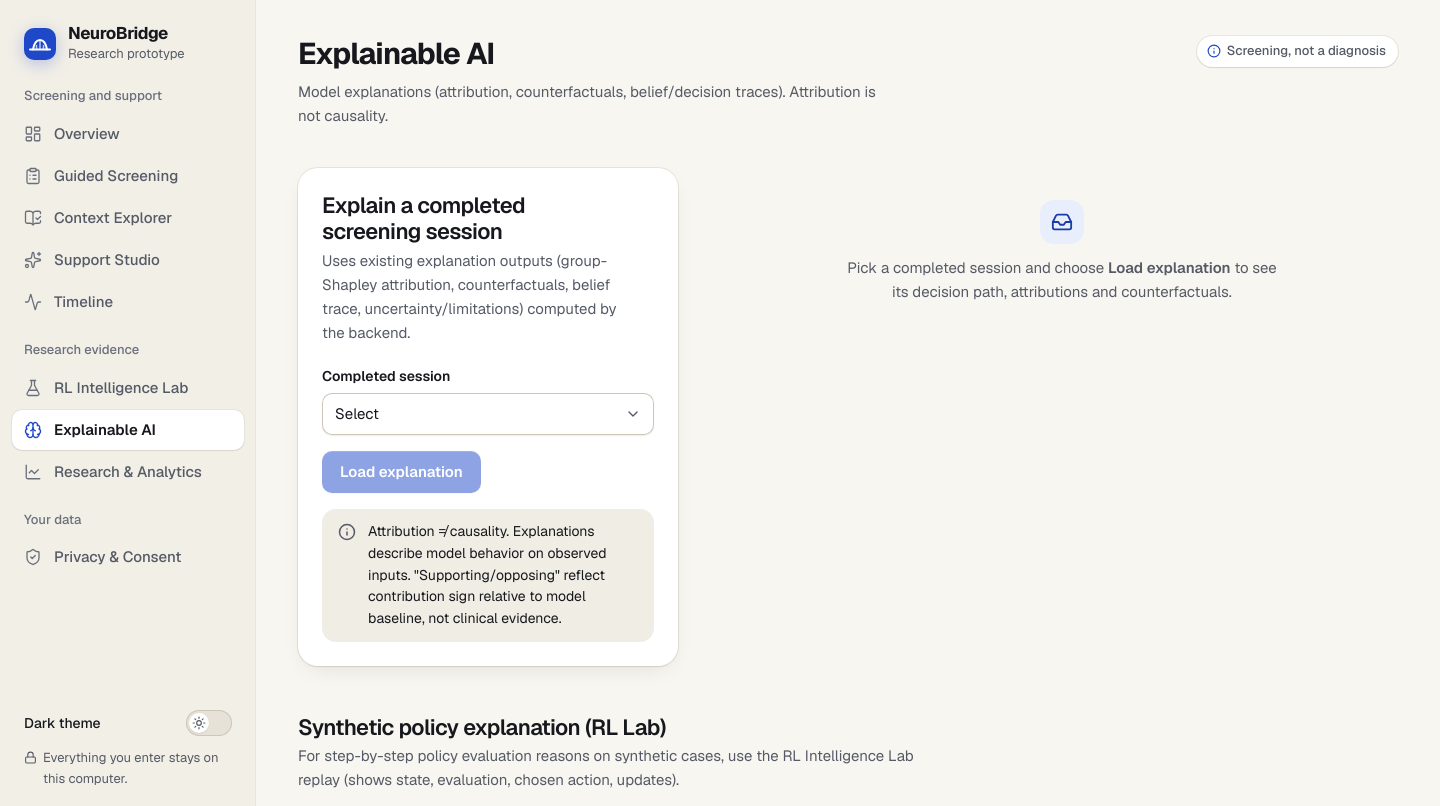
it: Explainable AI › loads the explanation of a completed session
expect the button "Load explanation" is disabled: met, box [322, 451, 481, 493]
Select "Session · greedy · ses_a" in the dropdown labelled "Completed session" at (488, 414), box [322, 393, 654, 435]
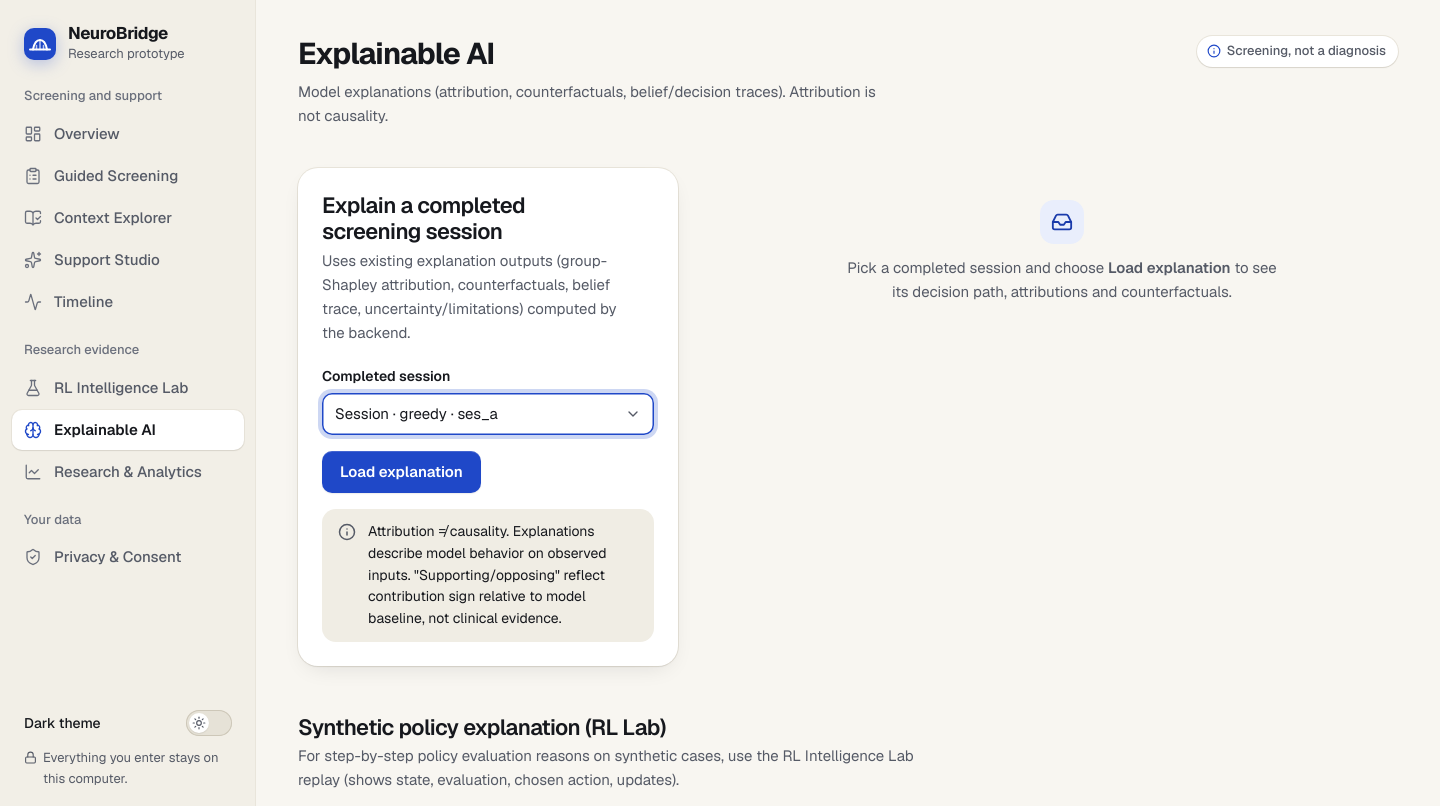
Click the button "Load explanation".
click(401, 472)  # box [322, 451, 481, 493]
(page scrolled)
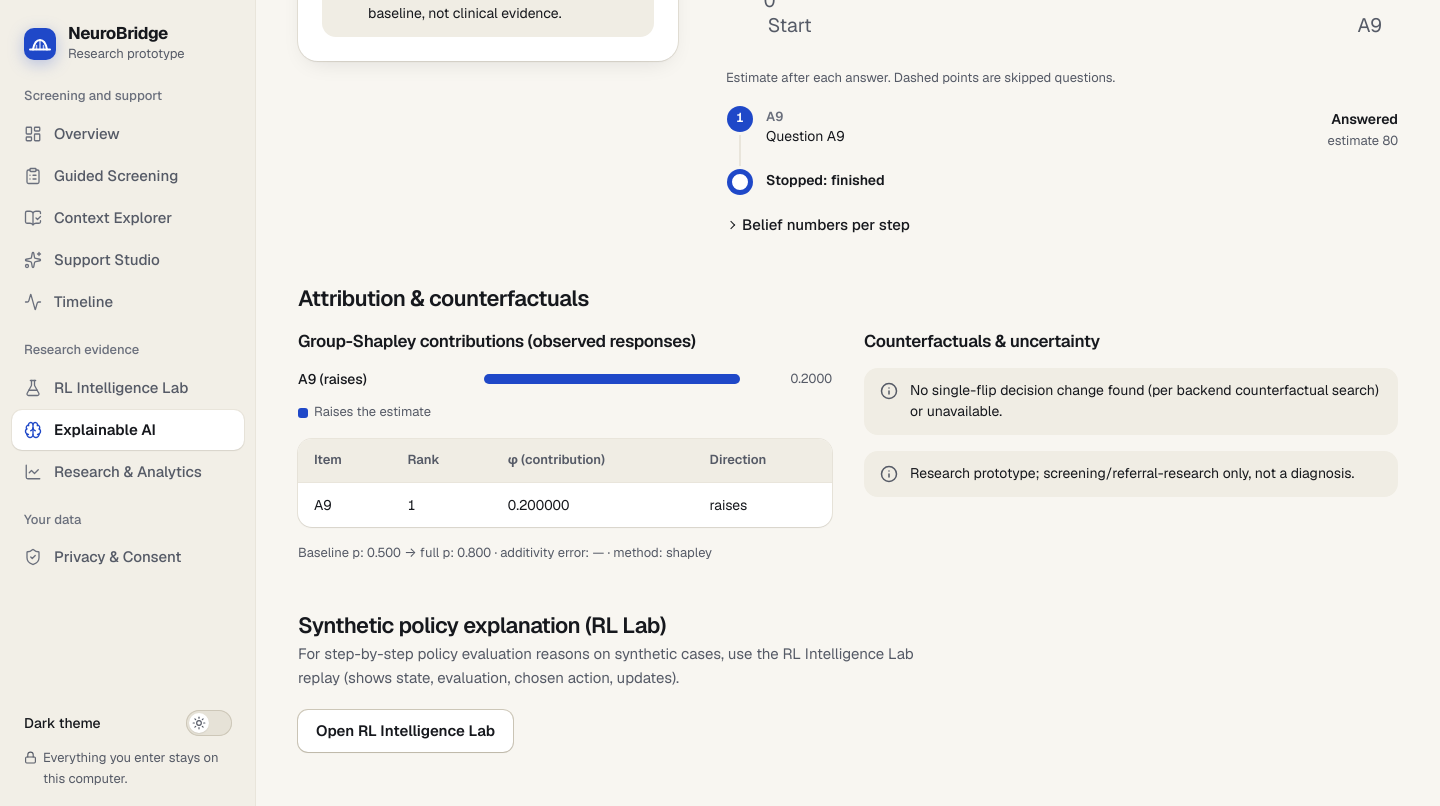
expect the heading "Group-Shapley contributions (observed responses)" is shown: met, box [298, 330, 696, 352]
expect the text "0.200000" is shown: met, box [492, 482, 694, 527]
expect the text "No single-flip decision change" is shown: met, box [910, 381, 1379, 420]
